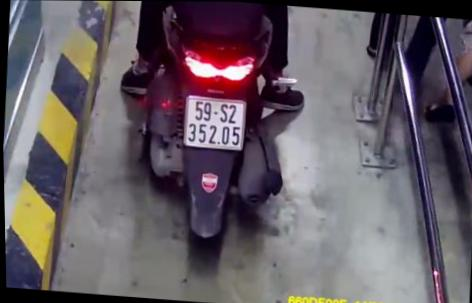LP: (181, 93, 248, 151)
